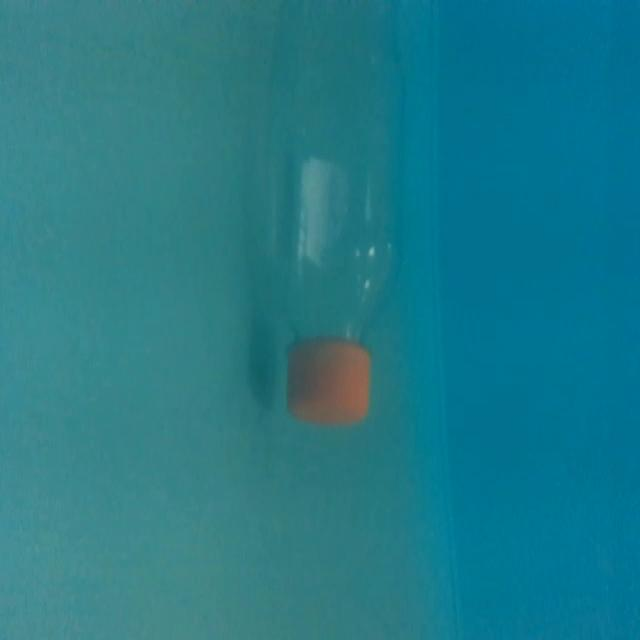plastic bottle: (251, 7, 411, 432)
